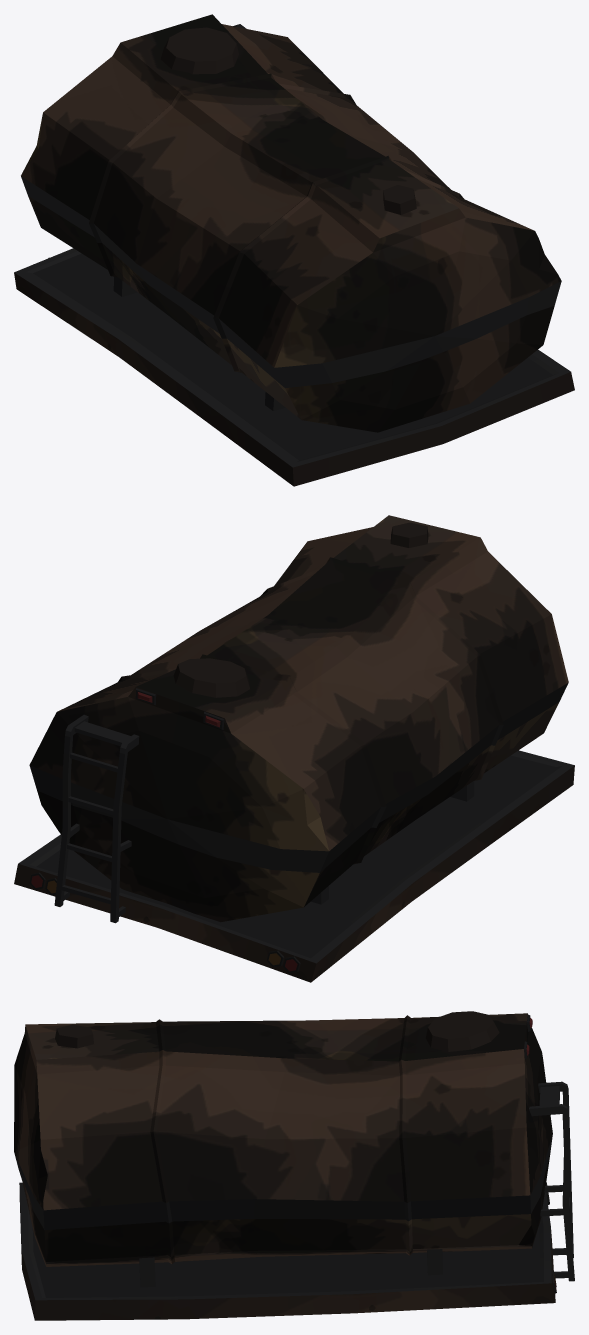
File: SM_Veh_Truck_01_Tanker_Destroyed.fbx
3 views of the same model, one above another, from view 1: azimuth 30°, elevation 25°; view 2: azimuth 150°, elevation 25°; view 3: azimuth 270°, elevation 25° (orthographic). The views are drawn at different scales.
Visible parts, largest first — view 1: SM_Veh_Truck_01_Tanker_Destroyed; view 2: SM_Veh_Truck_01_Tanker_Destroyed; view 3: SM_Veh_Truck_01_Tanker_Destroyed.
Boxes of the visible parts, <box> form: SM_Veh_Truck_01_Tanker_Destroyed: <box>14,14,574,486</box>; SM_Veh_Truck_01_Tanker_Destroyed: <box>14,515,574,982</box>; SM_Veh_Truck_01_Tanker_Destroyed: <box>14,1011,574,1320</box>.
Bounding box in the file's own units: 268 × 209 × 434.
